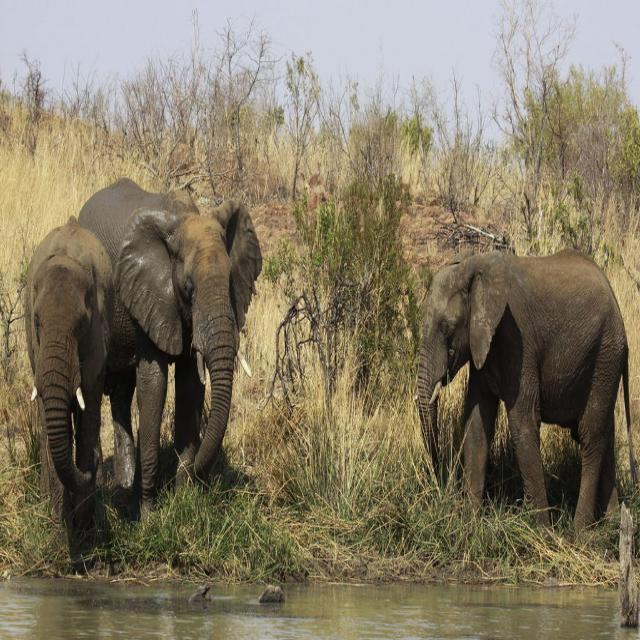elephant: (417, 241, 636, 549), (84, 180, 264, 516), (24, 219, 113, 499)
